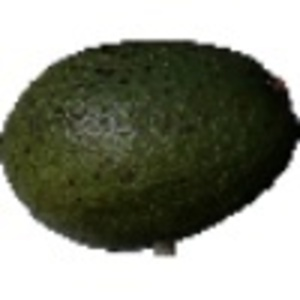abacate: (1, 36, 297, 243)
